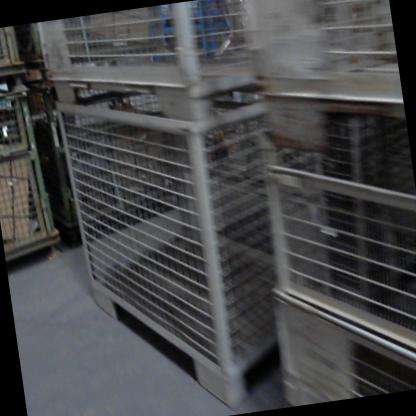stillage: (41, 75, 281, 416), (232, 76, 416, 404), (30, 0, 258, 146), (28, 71, 192, 249), (238, 0, 407, 156), (20, 3, 205, 97), (0, 78, 62, 275), (0, 25, 39, 81)
